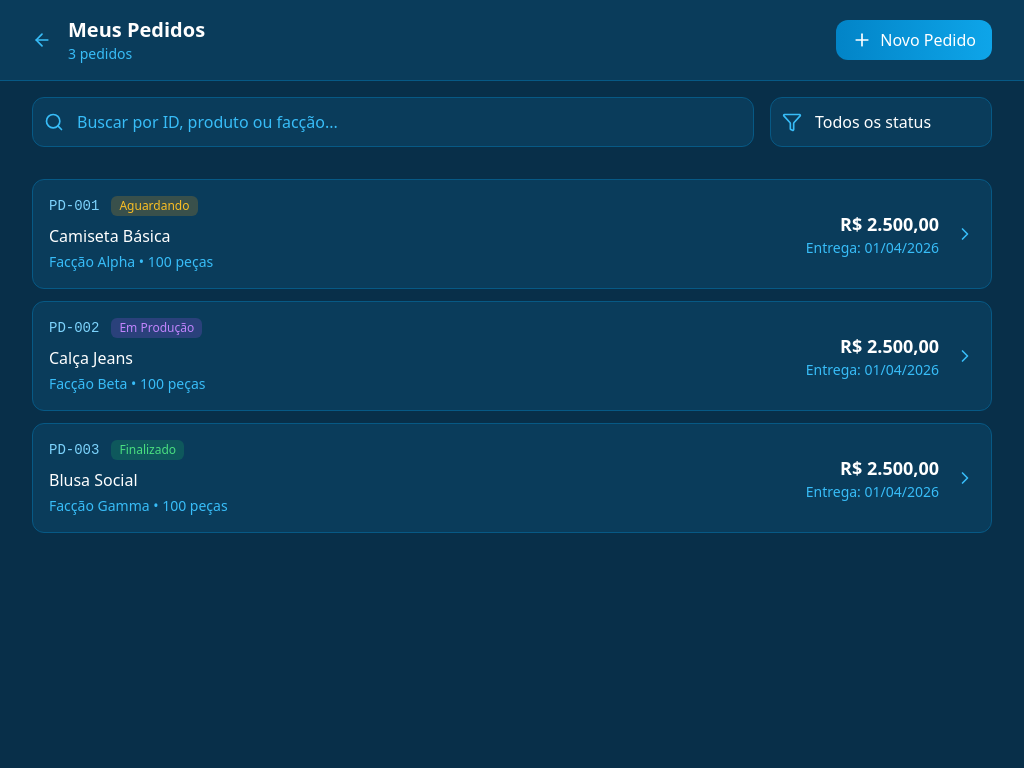
Test: OrdersListPage › TC-02: filtro por status › deve filtrar pedidos localmente pelo nome da faccao
The image size is (1024, 768).
Check: the heading "Camiseta Básica" is shown, box [49,225,171,247]
In the field with placeholder "Buscar por ID, produto ou facção...": x=393, y=122 [32,97,754,147], type "Alpha"
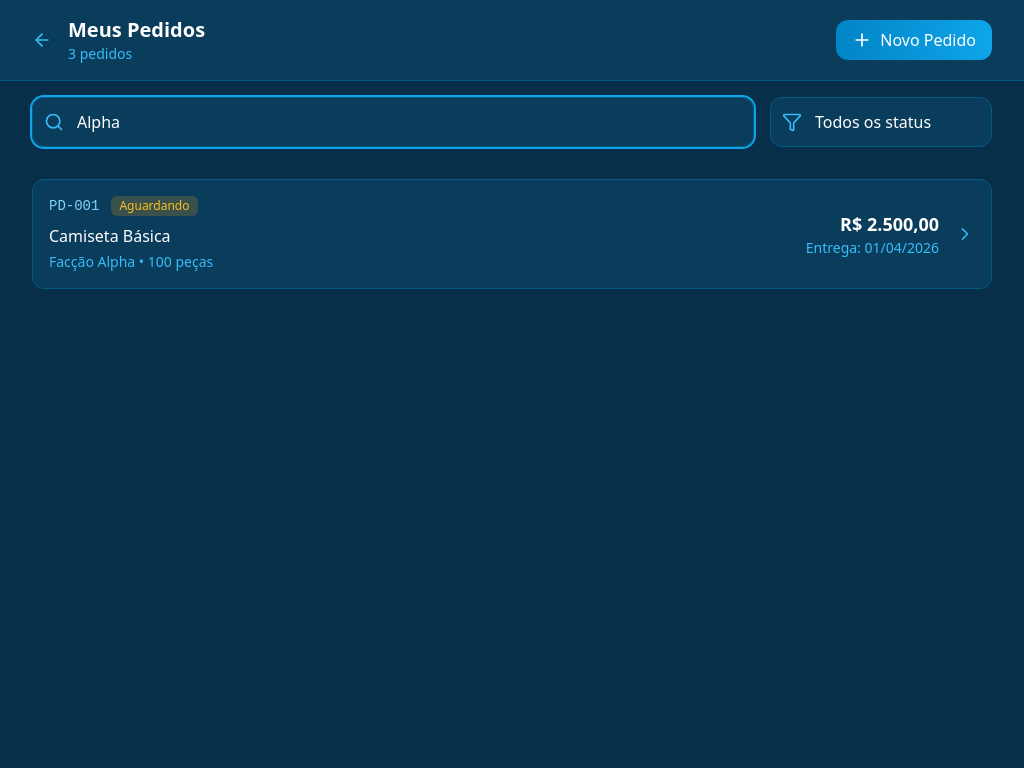
Check: the heading "Camiseta Básica" is shown, box [49,225,171,247]
Check: the link "Calça Jeans" is gone
